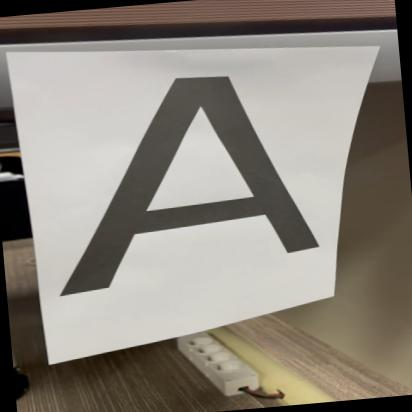seat: (30, 56, 336, 302)
